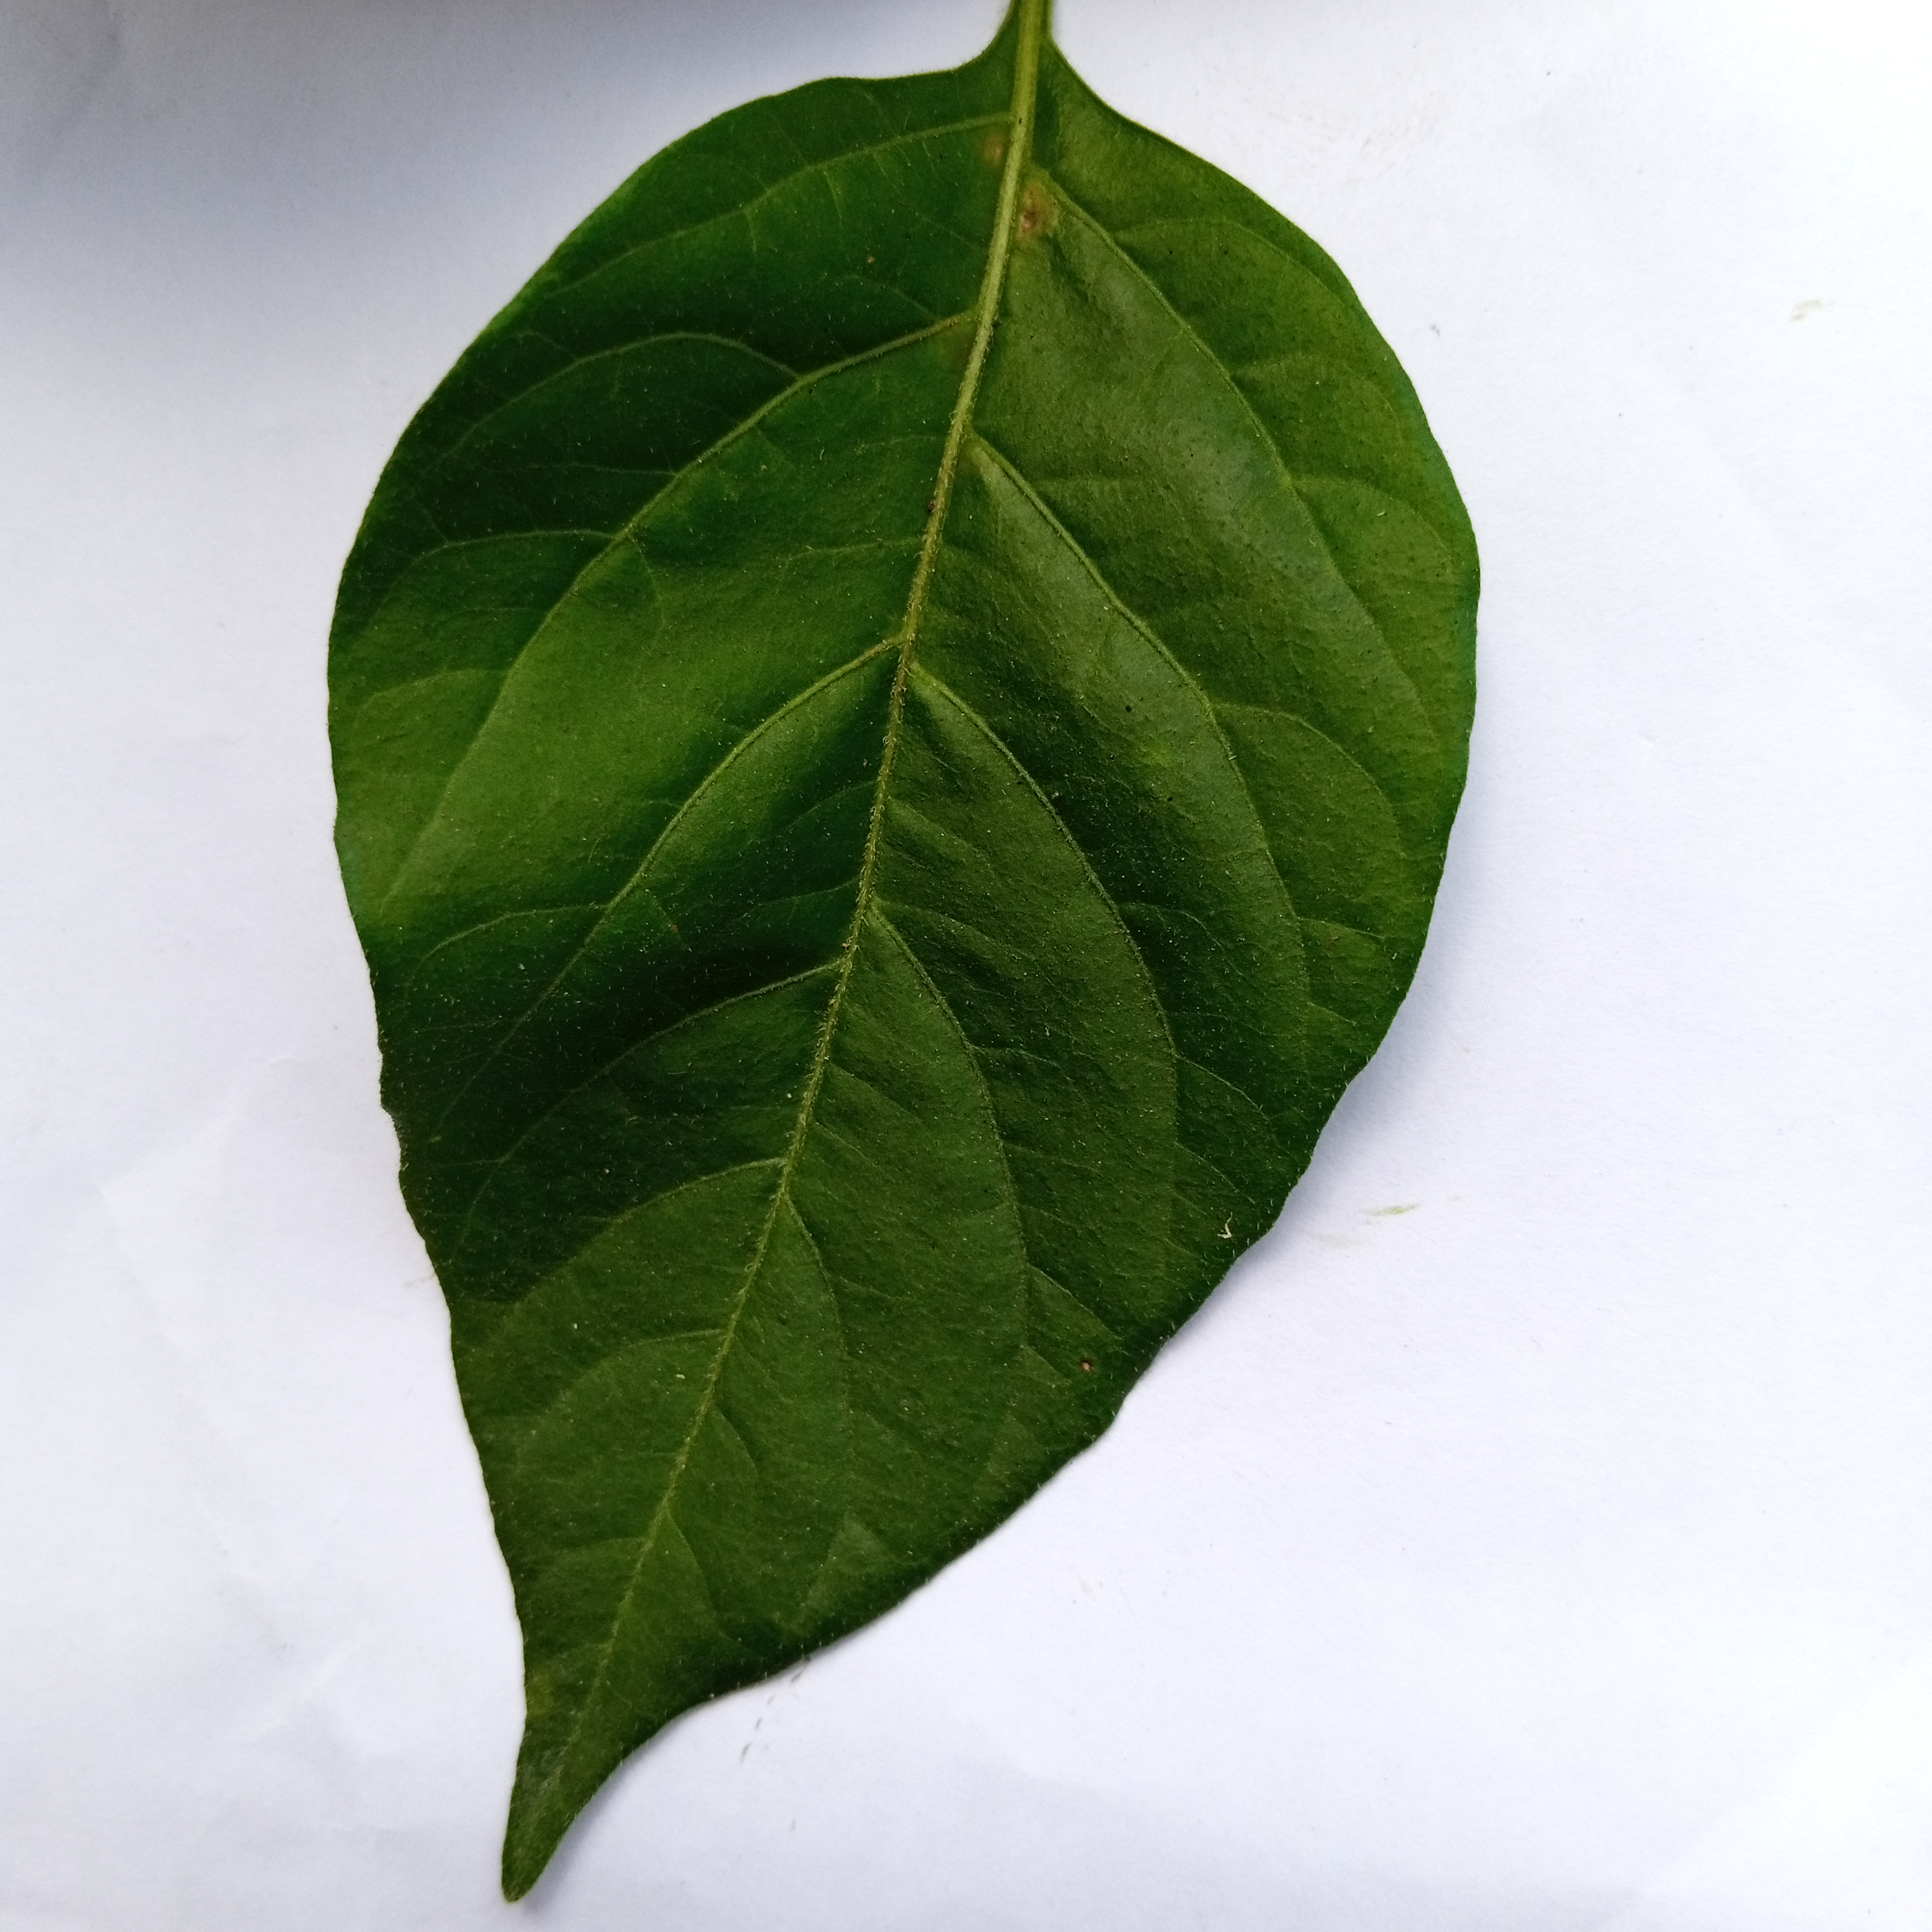Leaf: (216, 16, 1560, 1932)
